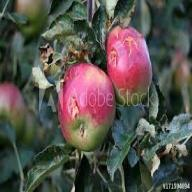apple: (54, 61, 114, 154), (104, 23, 158, 105)
